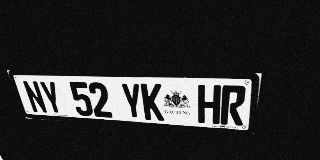2: (87, 82, 112, 118)
5: (68, 82, 94, 116)
H: (198, 85, 221, 124)
K: (140, 83, 164, 121)
N: (21, 80, 49, 114)
R: (220, 85, 247, 126)
Y: (38, 81, 65, 115), (120, 83, 144, 120)
